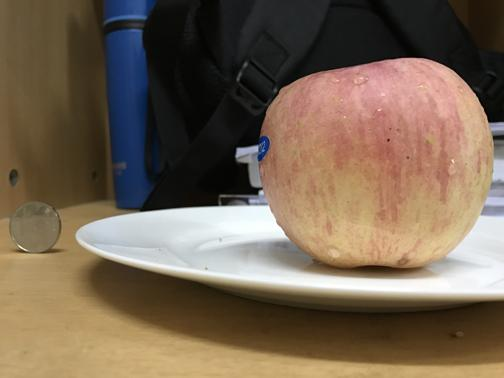apple: (256, 51, 493, 270)
coin: (6, 200, 61, 254)
